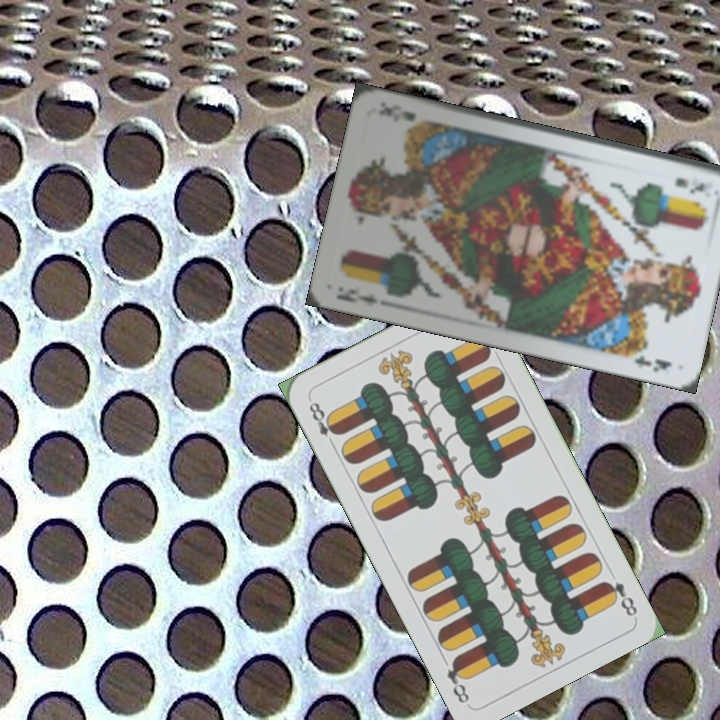E8: (304, 398, 342, 450), (599, 577, 640, 619)
EK: (332, 283, 380, 309), (670, 173, 709, 195)
